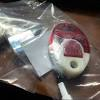bell: (48, 21, 94, 84)
